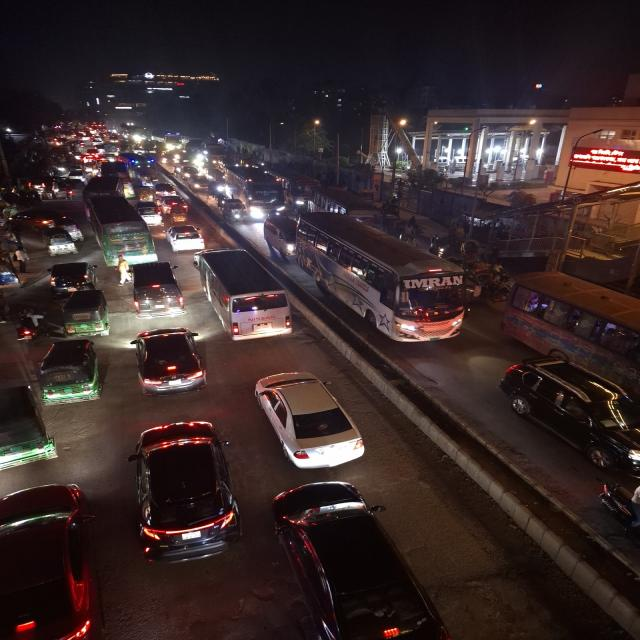bus: (296, 211, 472, 345), (503, 269, 639, 386), (86, 197, 154, 265), (225, 168, 282, 218), (282, 174, 317, 210), (130, 158, 160, 183)
car: (264, 477, 460, 640), (127, 419, 240, 571), (500, 355, 640, 477), (0, 480, 99, 640), (249, 369, 367, 471), (192, 246, 295, 344), (127, 325, 211, 399), (161, 222, 206, 252), (162, 196, 191, 218), (150, 181, 177, 197), (190, 176, 212, 192)
cng: (0, 382, 59, 472), (34, 338, 104, 408), (125, 260, 188, 321), (60, 289, 112, 339), (44, 260, 101, 294), (218, 198, 250, 224)
motorcycle: (14, 312, 45, 346)
pedestrian: (11, 246, 30, 274)
rickshaw: (40, 229, 80, 259), (459, 238, 487, 262), (169, 206, 188, 224), (140, 174, 152, 187)
